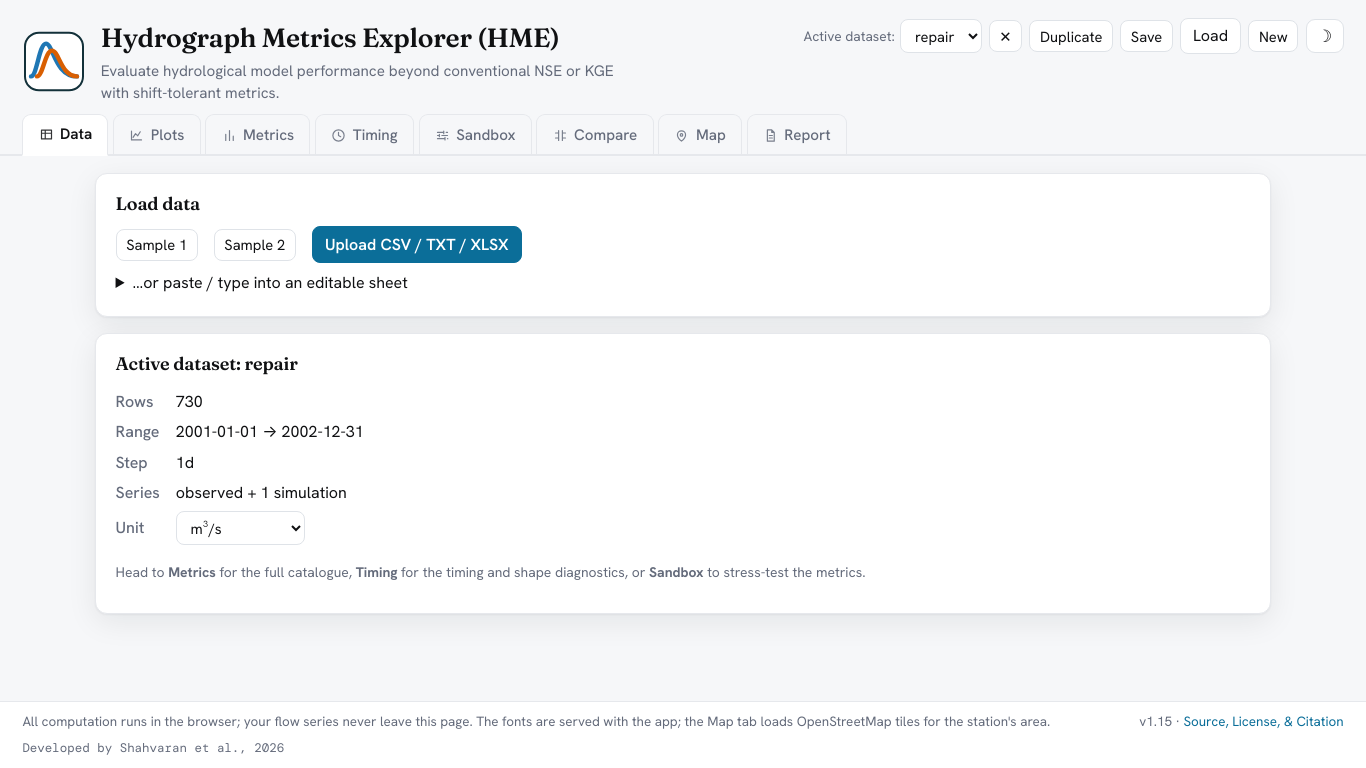
Test: plots-01-r1: out-of-season steps are never filled by the NaN policy › a missing value inside the season still follows the policy
Click the tab "Plots" at (157, 135), box [113,114,201,156]
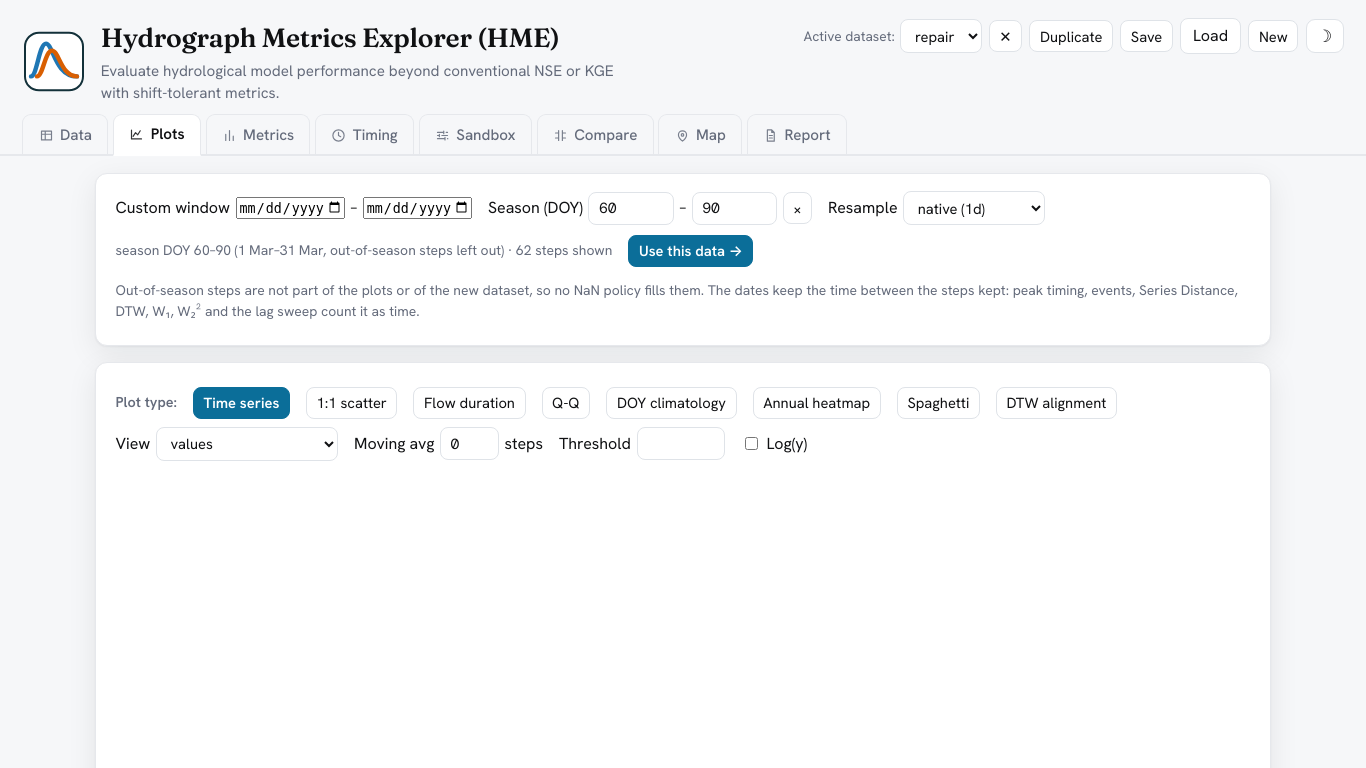
Click the button "Flow duration" at (470, 403), box [414,387,526,419]
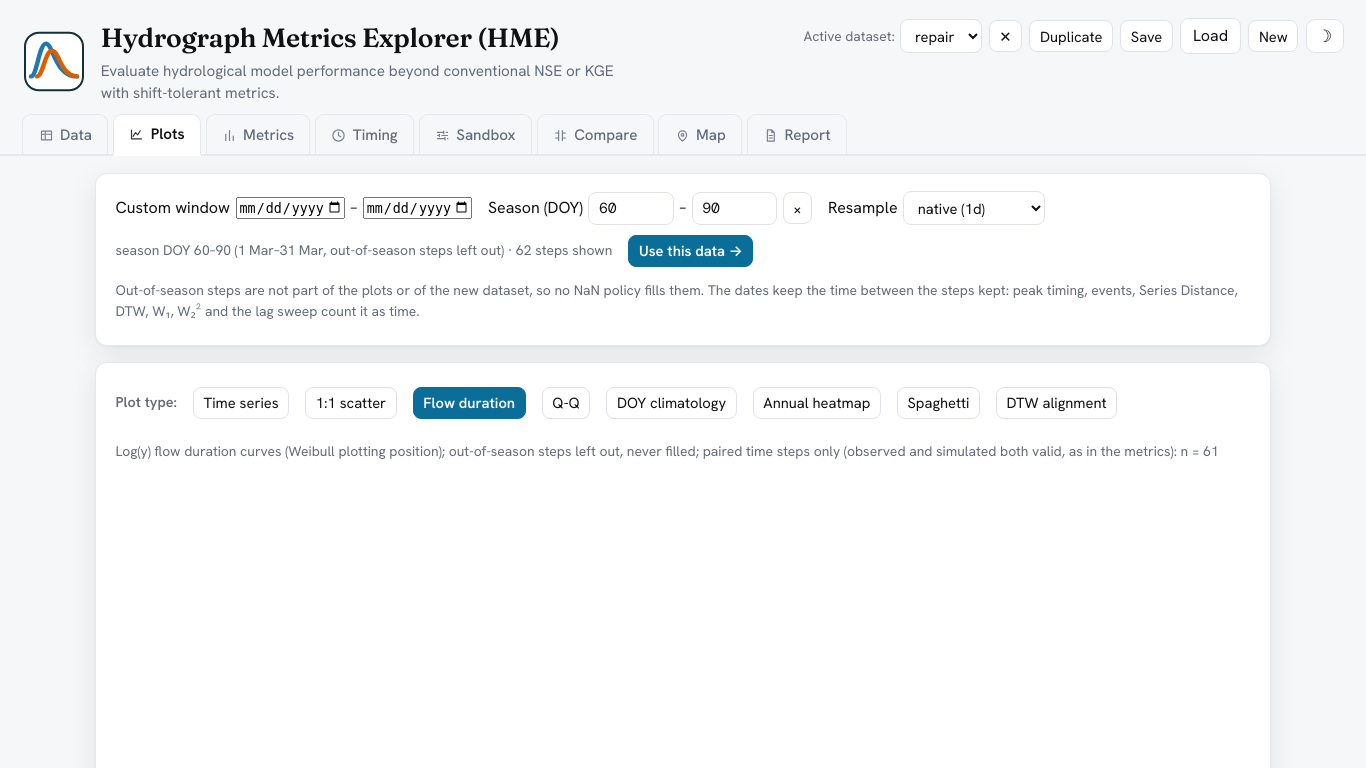
Expected: the text "missing in-season values set to the in-season mean (NaN policy): n = 62" is shown, [116,441,1250,462]
